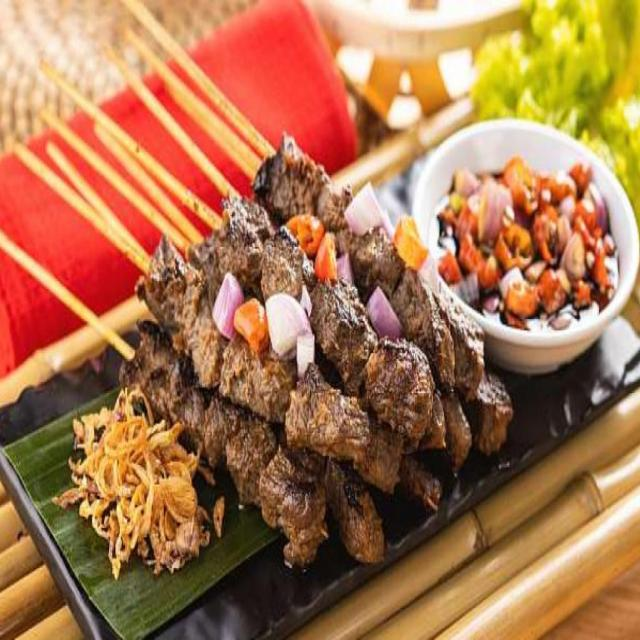Sate: (26, 36, 446, 570)
